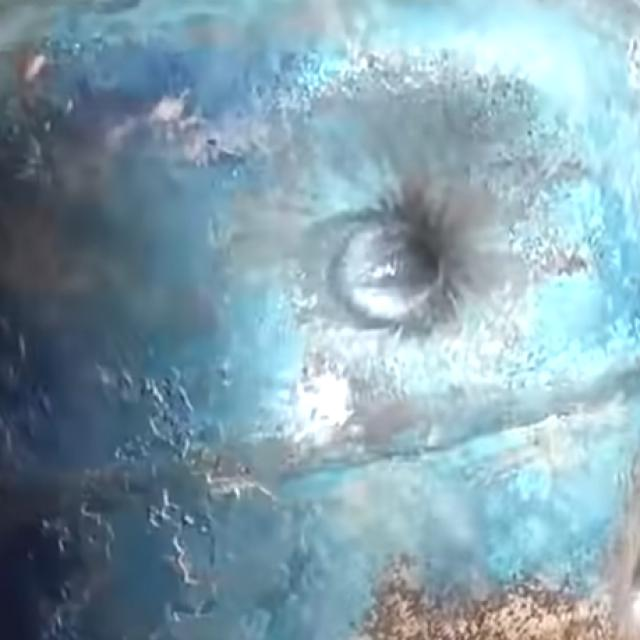bullets: (245, 80, 543, 400)
